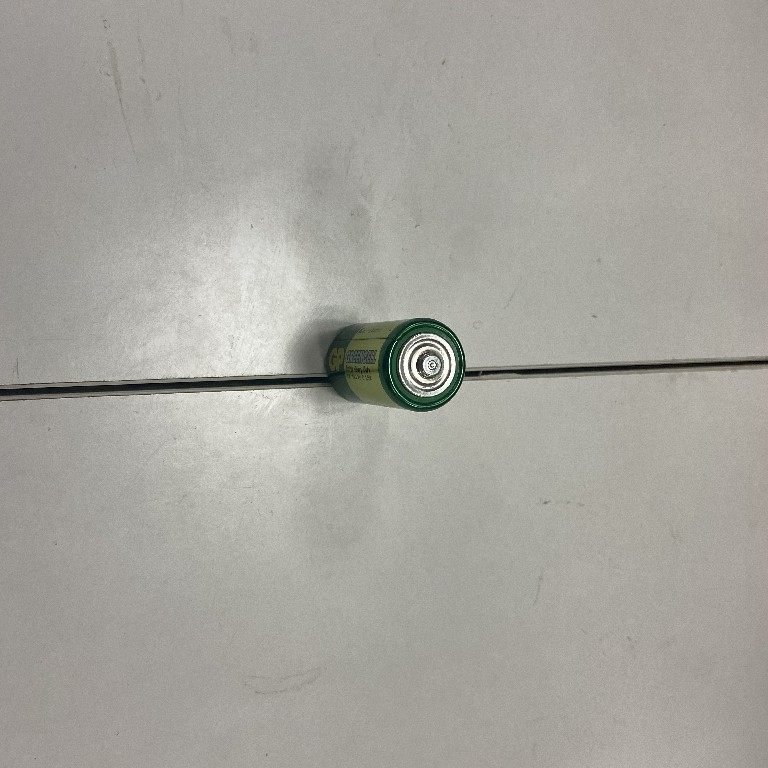charge: (320, 315, 468, 414)
